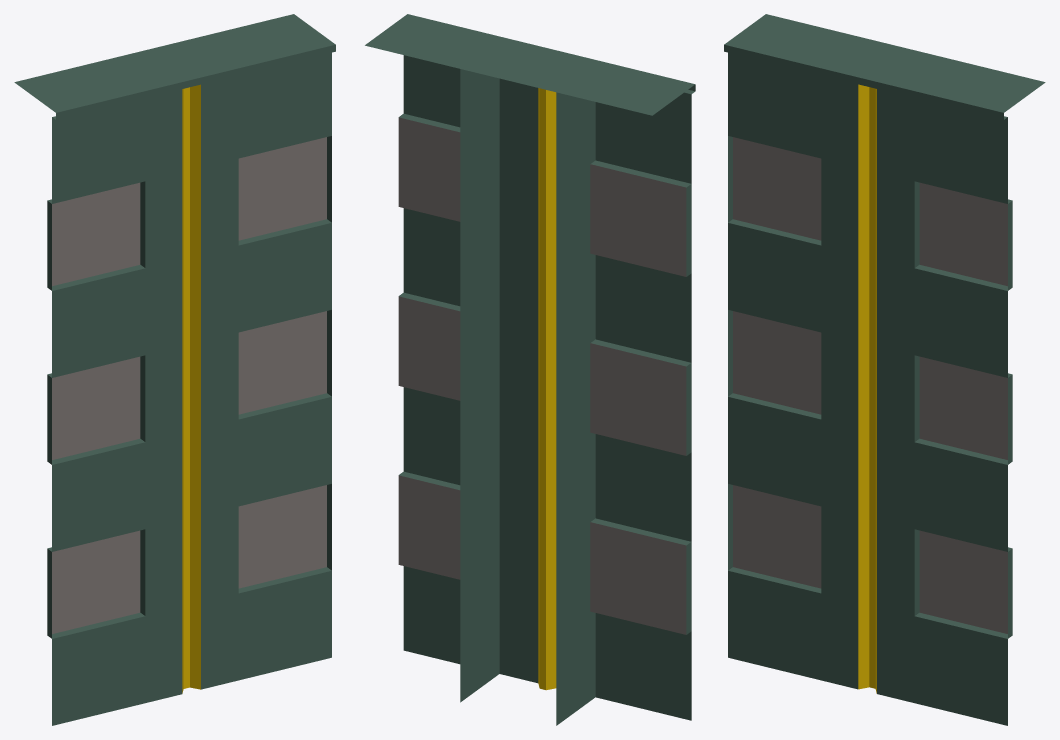
The picture shows the model from 3 angles, left to right: view 1: azimuth 30°, elevation 25°; view 2: azimuth 150°, elevation 25°; view 3: azimuth 330°, elevation 25°; orthographic projection. The views are drawn at different scales.
Visible parts, largest first — view 1: Column.061; view 2: Column.061; view 3: Column.061.
Boxes of the visible parts, x1=… form: Column.061: x1=14, y1=14, x2=335, y2=725; Column.061: x1=365, y1=14, x2=695, y2=725; Column.061: x1=724, y1=14, x2=1045, y2=725.
Size of the model in its own units: 835 by 1757 by 217.
